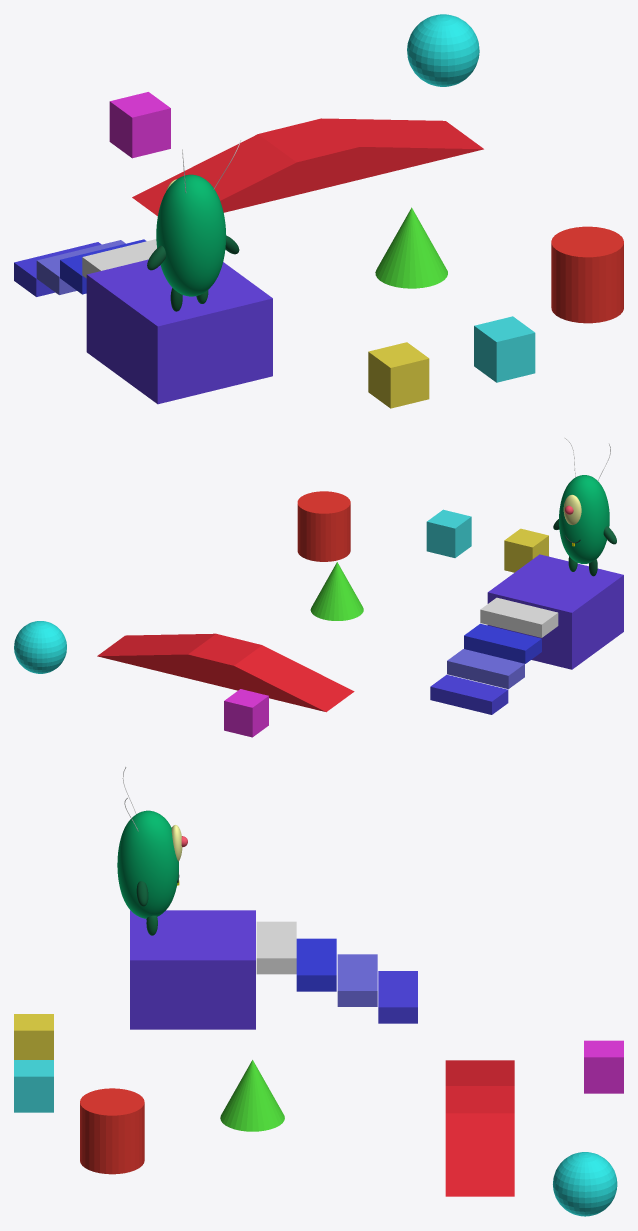
The model's file is world2.glb.
The picture shows the model from 3 angles, top to bottom: view 1: azimuth 30°, elevation 25°; view 2: azimuth 150°, elevation 25°; view 3: azimuth 270°, elevation 25°; orthographic projection. The views are drawn at different scales.
Parts seen in each view (by area): view 1: 立方体, 立方体.001, 立方体.009, 柱体, 球体, 立方体.002, 立方体.004, 立方体.003, 锥体, 立方体.007, 立方体.006, 立方体.005 (+1 smaller); view 2: 立方体.001, 立方体, 柱体, 立方体.009, 球体, 立方体.005, 立方体.007, 立方体.006, 立方体.008, 立方体.004, 锥体, 立方体.003 (+1 smaller); view 3: 立方体, 立方体.001, 柱体, 立方体.009, 球体, 锥体, 立方体.008, 立方体.007, 立方体.006, 立方体.003, 立方体.004, 立方体.005 (+1 smaller).
Boxes of the visible parts, x1=… form: 立方体: x1=86, y1=259, x2=272, y2=404; 立方体.001: x1=132, y1=118, x2=483, y2=216; 立方体.009: x1=156, y1=174, x2=226, y2=296; 柱体: x1=551, y1=226, x2=623, y2=323; 球体: x1=407, y1=14, x2=479, y2=86; 立方体.002: x1=368, y1=342, x2=429, y2=408; 立方体.004: x1=474, y1=316, x2=535, y2=382; 立方体.003: x1=109, y1=92, x2=170, y2=158; 锥体: x1=375, y1=207, x2=447, y2=288; 立方体.007: x1=82, y1=239, x2=156, y2=278; 立方体.006: x1=36, y1=240, x2=125, y2=294; 立方体.005: x1=14, y1=242, x2=101, y2=296; 立方体.001: x1=97, y1=633, x2=354, y2=712; 立方体: x1=487, y1=554, x2=623, y2=669; 柱体: x1=297, y1=491, x2=350, y2=561; 立方体.009: x1=559, y1=475, x2=609, y2=563; 球体: x1=14, y1=621, x2=66, y2=673; 立方体.005: x1=430, y1=674, x2=508, y2=714; 立方体.007: x1=480, y1=597, x2=558, y2=637; 立方体.006: x1=447, y1=649, x2=524, y2=689; 立方体.008: x1=464, y1=623, x2=541, y2=663; 立方体.004: x1=426, y1=509, x2=471, y2=557; 锥体: x1=310, y1=562, x2=363, y2=620; 立方体.003: x1=224, y1=689, x2=268, y2=737; 立方体: x1=130, y1=910, x2=255, y2=1029; 立方体.001: x1=445, y1=1060, x2=514, y2=1196; 柱体: x1=80, y1=1088, x2=144, y2=1174; 立方体.009: x1=117, y1=810, x2=178, y2=918; 球体: x1=553, y1=1152, x2=617, y2=1216; 锥体: x1=220, y1=1060, x2=284, y2=1131; 立方体.008: x1=296, y1=938, x2=336, y2=991; 立方体.007: x1=256, y1=921, x2=296, y2=974; 立方体.006: x1=337, y1=954, x2=377, y2=1006; 立方体.003: x1=584, y1=1040, x2=623, y2=1093; 立方体.004: x1=14, y1=1060, x2=53, y2=1112; 立方体.005: x1=378, y1=971, x2=417, y2=1023.
Bounding box in the file's own units: 18.19 × 7.6 × 18.86.
